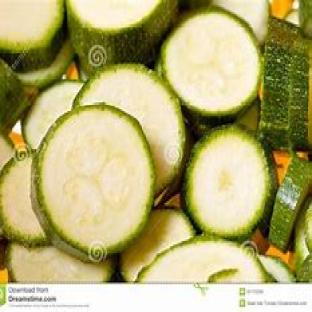Zucchini: (31, 105, 155, 259), (74, 65, 186, 194), (161, 7, 261, 121), (184, 127, 277, 239), (137, 236, 267, 282), (121, 209, 194, 282), (260, 18, 299, 149), (0, 153, 46, 246), (6, 243, 113, 282), (22, 82, 83, 149), (270, 155, 311, 251), (18, 40, 74, 88), (288, 37, 311, 150), (0, 59, 30, 133), (295, 200, 310, 270), (259, 255, 295, 282), (236, 99, 259, 131), (0, 134, 13, 171), (208, 269, 238, 284), (304, 198, 311, 253), (298, 255, 311, 282), (286, 9, 299, 26)
